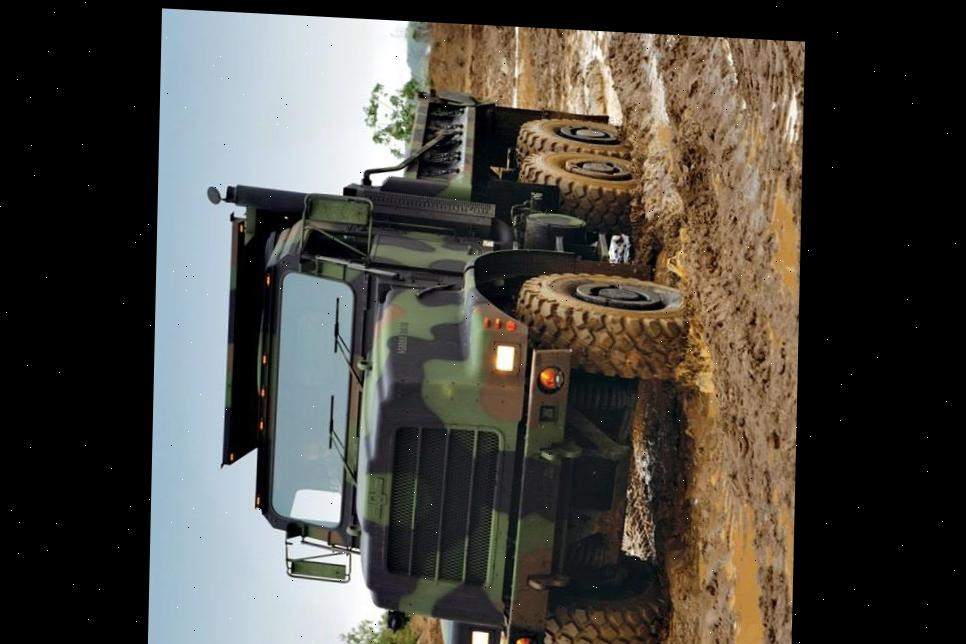truck: (195, 77, 695, 644)
